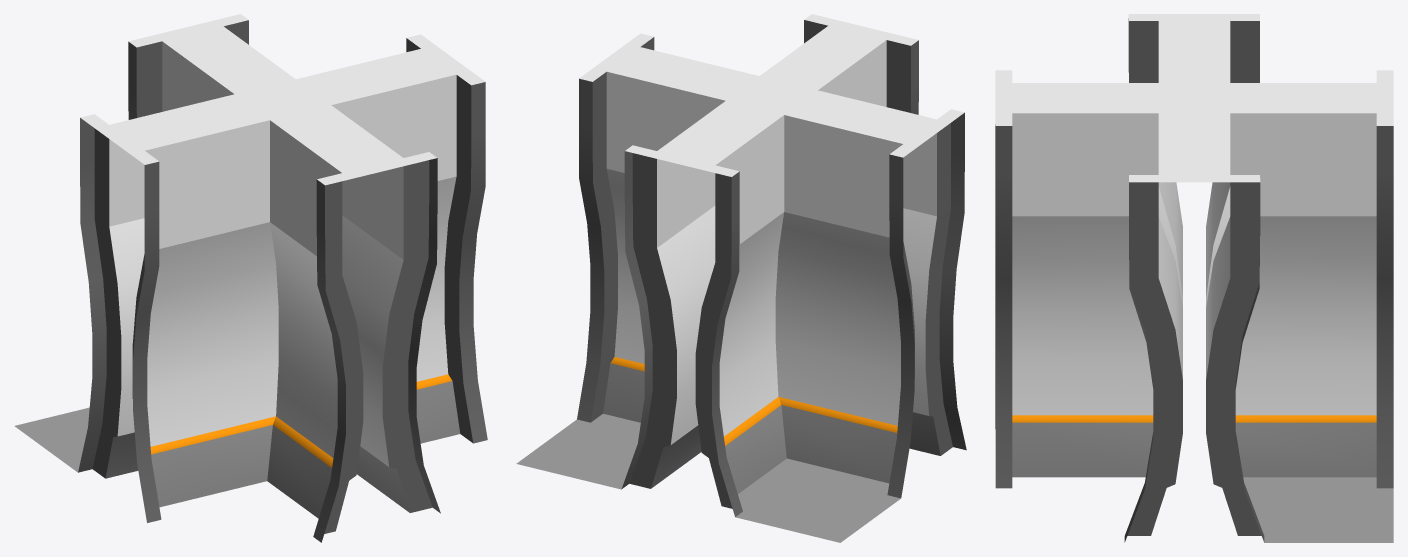
File: SM_InteriorWall_X_03.fbx
3 views of the same model, side by side, from view 1: azimuth 30°, elevation 25°; view 2: azimuth 150°, elevation 25°; view 3: azimuth 270°, elevation 25° (orthographic). The views are drawn at different scales.
Visible parts, largest first — view 1: SM_InteriorWall_X_03; view 2: SM_InteriorWall_X_03; view 3: SM_InteriorWall_X_03.
Part boxes in pixels (x1,y1,x2,y2): SM_InteriorWall_X_03: (14,14,487,542); SM_InteriorWall_X_03: (516,14,966,542); SM_InteriorWall_X_03: (995,14,1393,542).
Bounding box in the file's own units: 200 × 200 × 200.
1 material, 1 textured.
